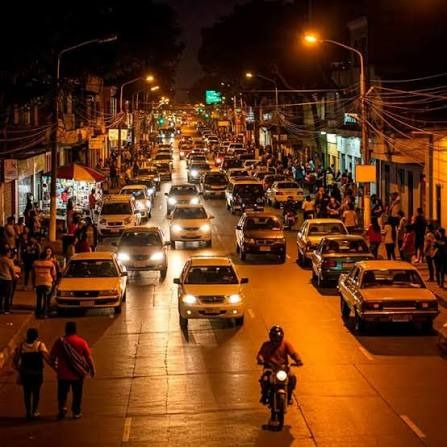car: (1, 106, 433, 421), (20, 151, 417, 340), (97, 171, 420, 305), (339, 262, 442, 342), (175, 258, 248, 340), (53, 254, 125, 310), (257, 342, 299, 429), (304, 227, 364, 281), (312, 235, 371, 286), (112, 227, 166, 282), (314, 238, 371, 288), (237, 216, 288, 262), (259, 364, 293, 430), (302, 222, 340, 272), (299, 219, 345, 259), (164, 200, 212, 238), (239, 211, 283, 249), (97, 195, 138, 234), (30, 257, 58, 312), (301, 217, 351, 247), (271, 185, 307, 226), (169, 214, 214, 246), (161, 191, 211, 217), (230, 181, 267, 213)
